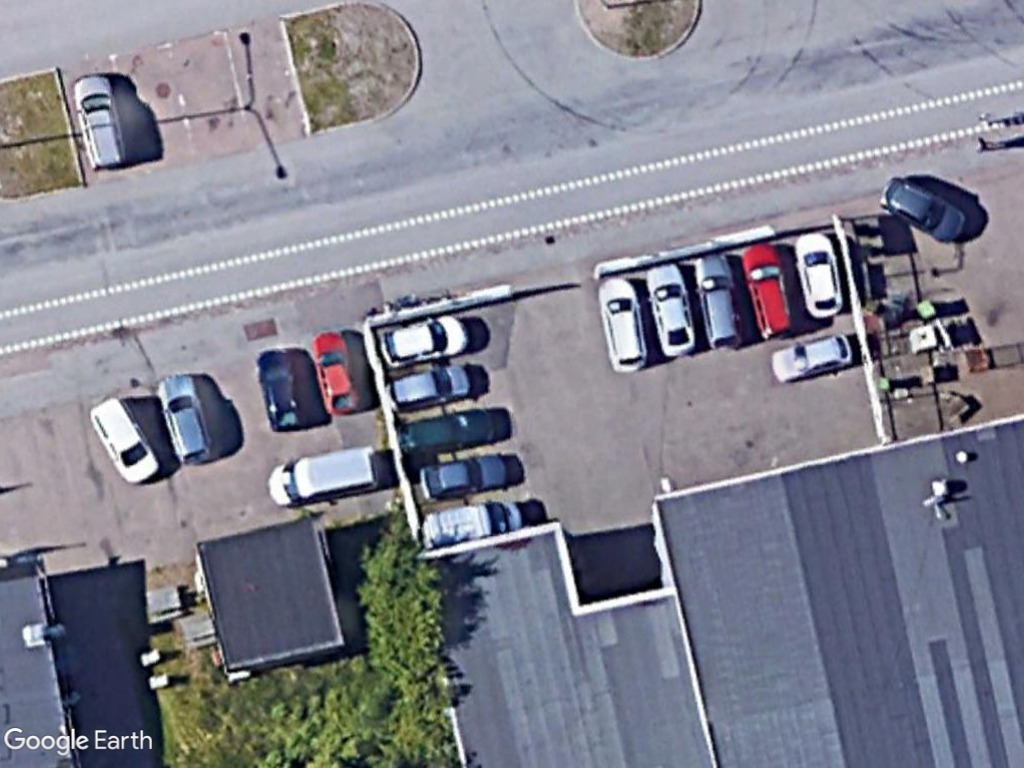car: (879, 171, 974, 247), (90, 396, 163, 490), (67, 72, 133, 175), (638, 252, 697, 363), (378, 358, 482, 417), (594, 273, 653, 377), (691, 243, 745, 354), (304, 325, 368, 418), (741, 236, 794, 342), (376, 310, 475, 366), (156, 370, 213, 466), (791, 225, 846, 322), (419, 448, 513, 503), (252, 346, 308, 434), (770, 328, 856, 385)
van: (263, 437, 383, 513)
